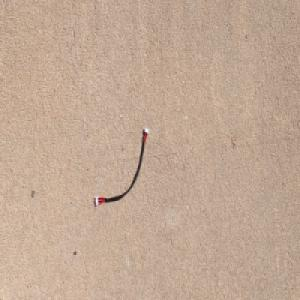Wire: (94, 126, 149, 207)
